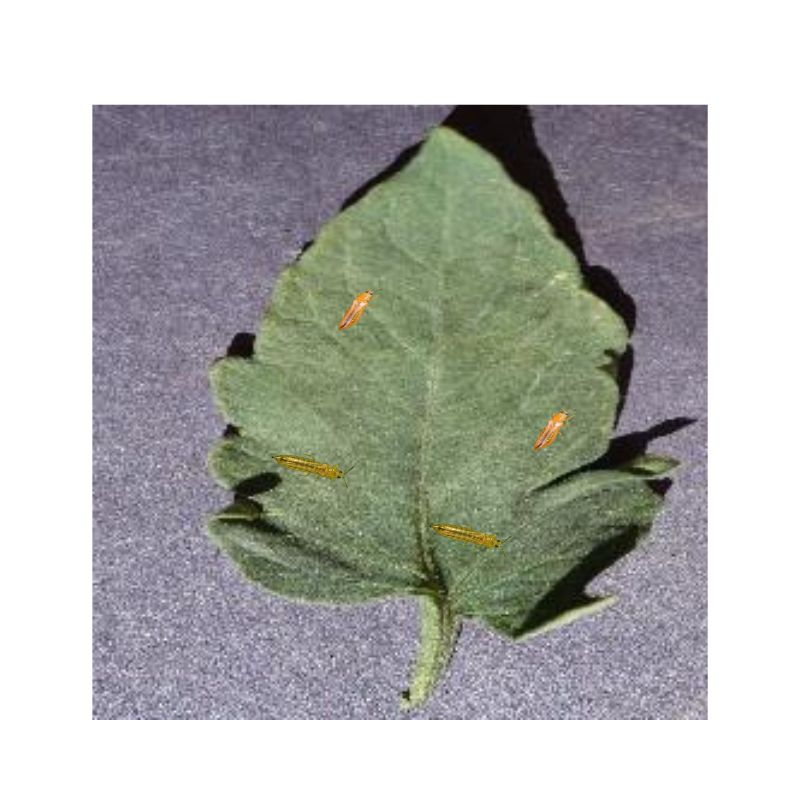thrips: (272, 450, 358, 490), (428, 517, 510, 557), (530, 407, 574, 452), (337, 286, 376, 332)
